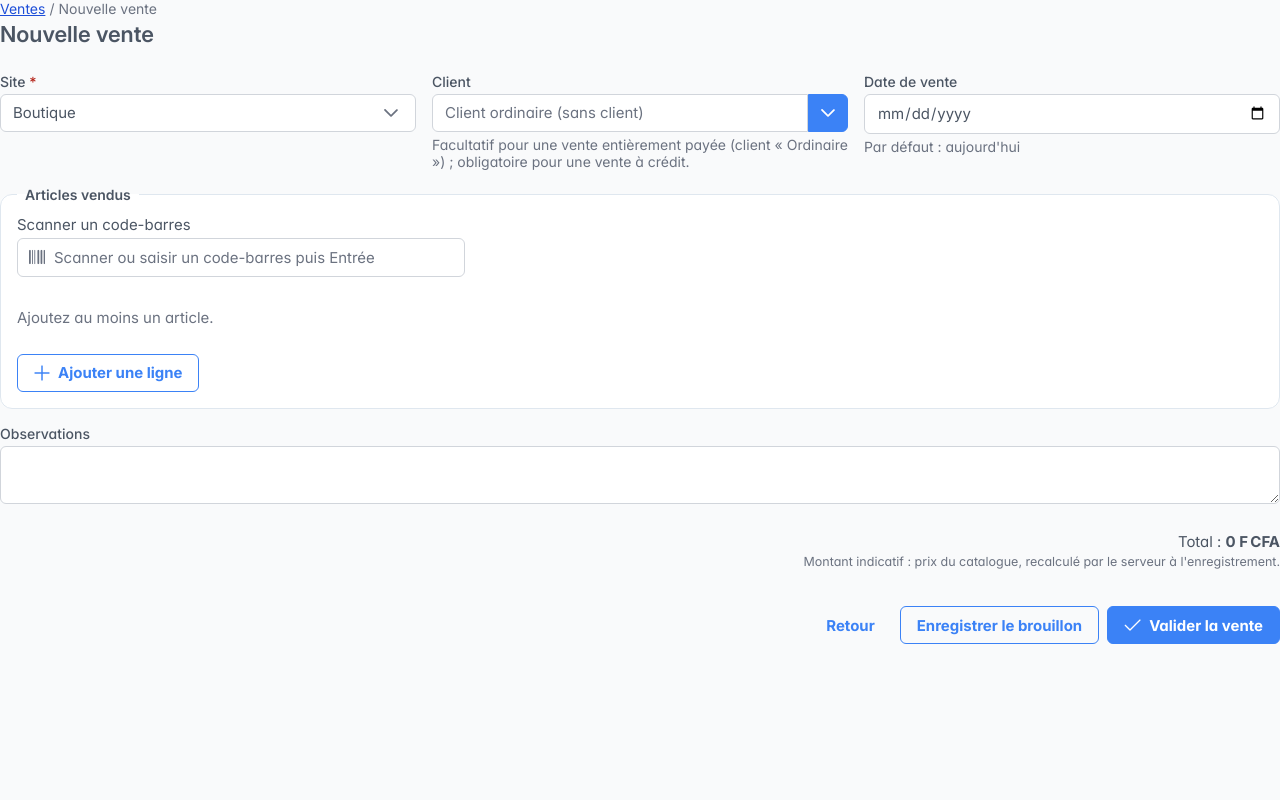
Test case: brouillons de vente (back-office) › nouvelle vente validée directement puis refusée : refus conservé dans le dialogue, même brouillon revalidé
This screenshot has width=1280, height=800.
Expected: the heading "Nouvelle vente" is shown, [0,21,157,48]
Click the button "Ajouter une ligne". click: coordinates (108, 373)
box: [17,354,199,392]
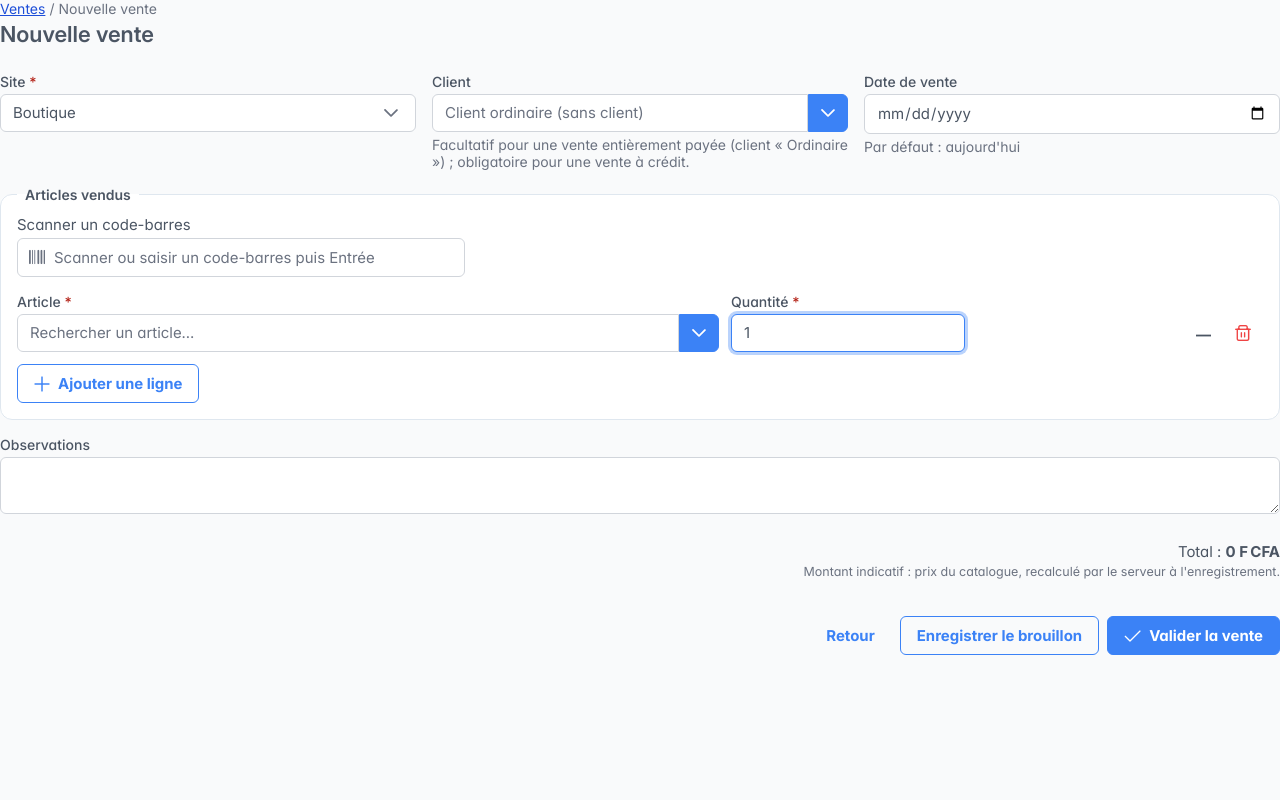
Type "vis" into the dropdown with id "line-0-article". click: coordinates (348, 333)
box: [17,314,679,352]
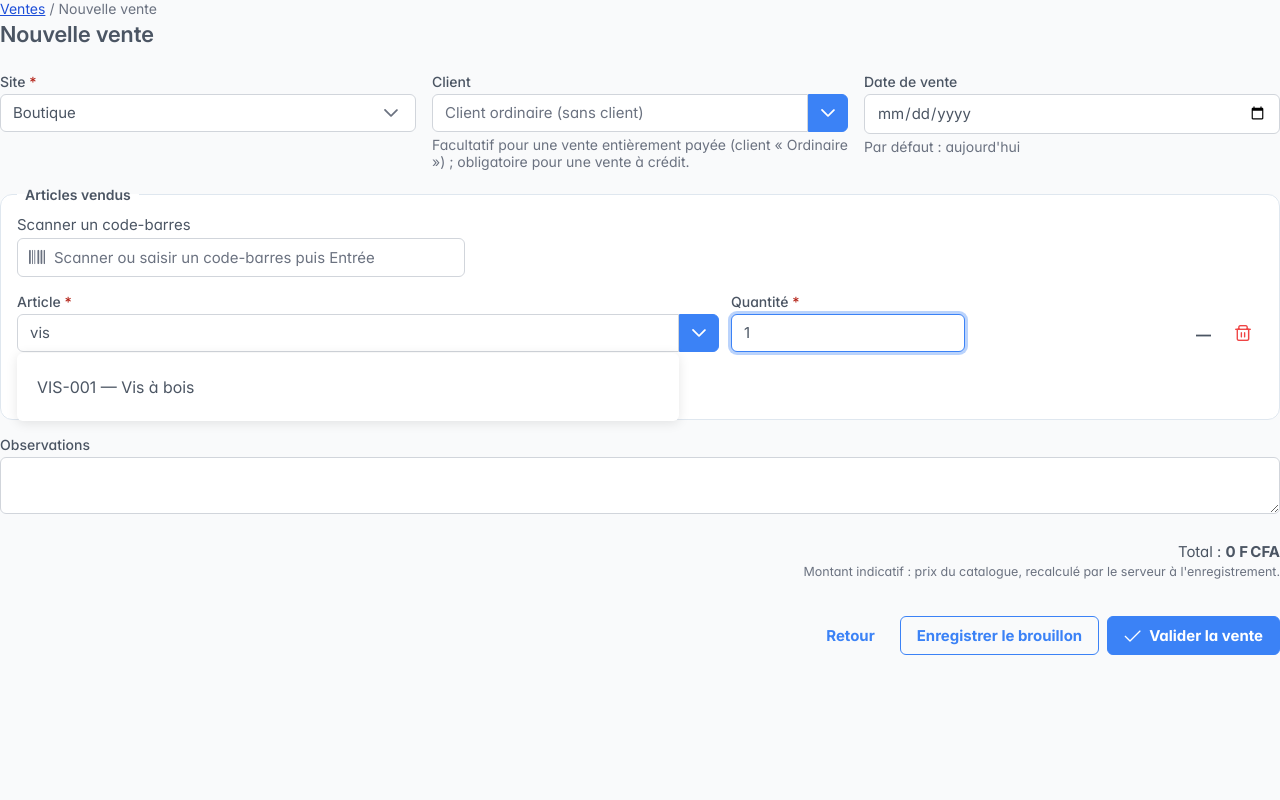
Expected: the dropdown with id "line-0-article" is expanded, [17,314,679,352]
Click the option "VIS-001 — Vis à bois". click: coordinates (116, 387)
box: [37,377,194,397]
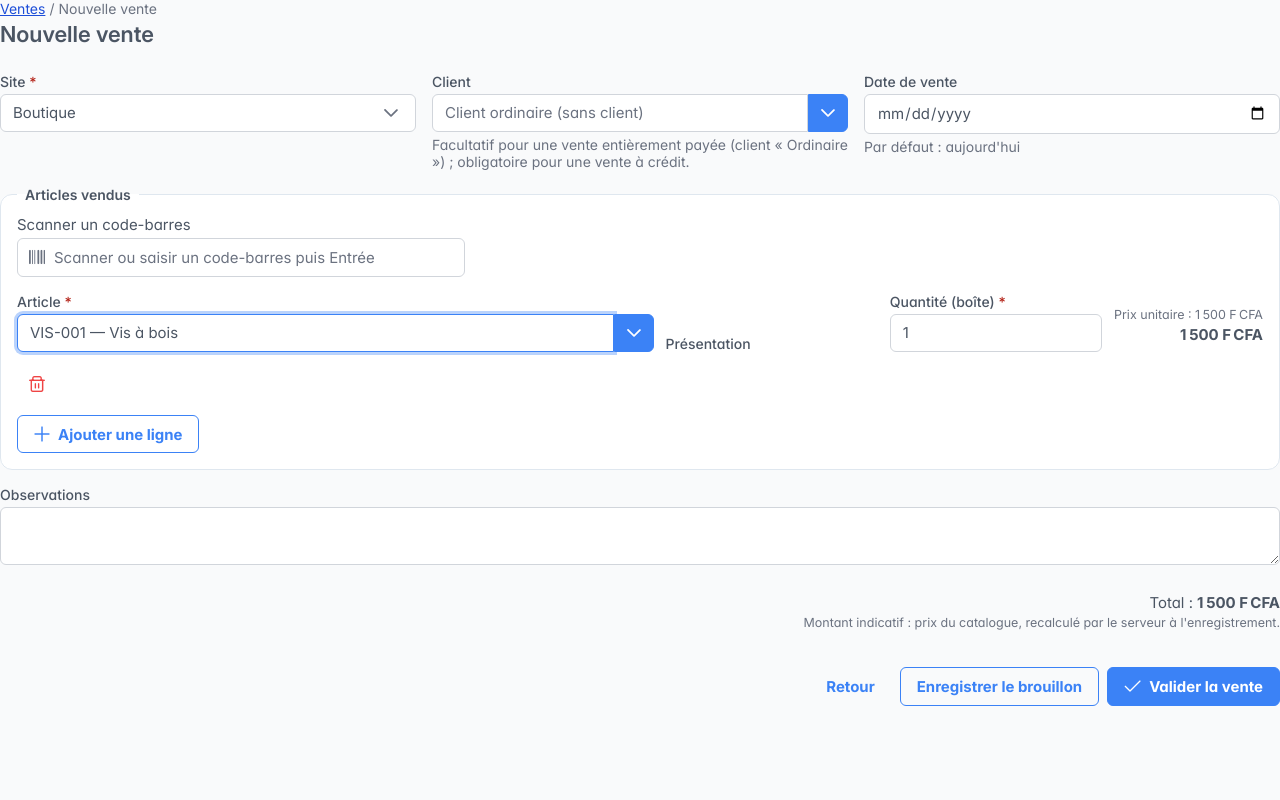
Replace the text in the field labelled "Quantité (boîte) *" with "2". click: coordinates (996, 333)
box: [890,314,1102,352]
Click the button "Valider la vente". click: coordinates (1194, 686)
box: [1107,667,1279,706]
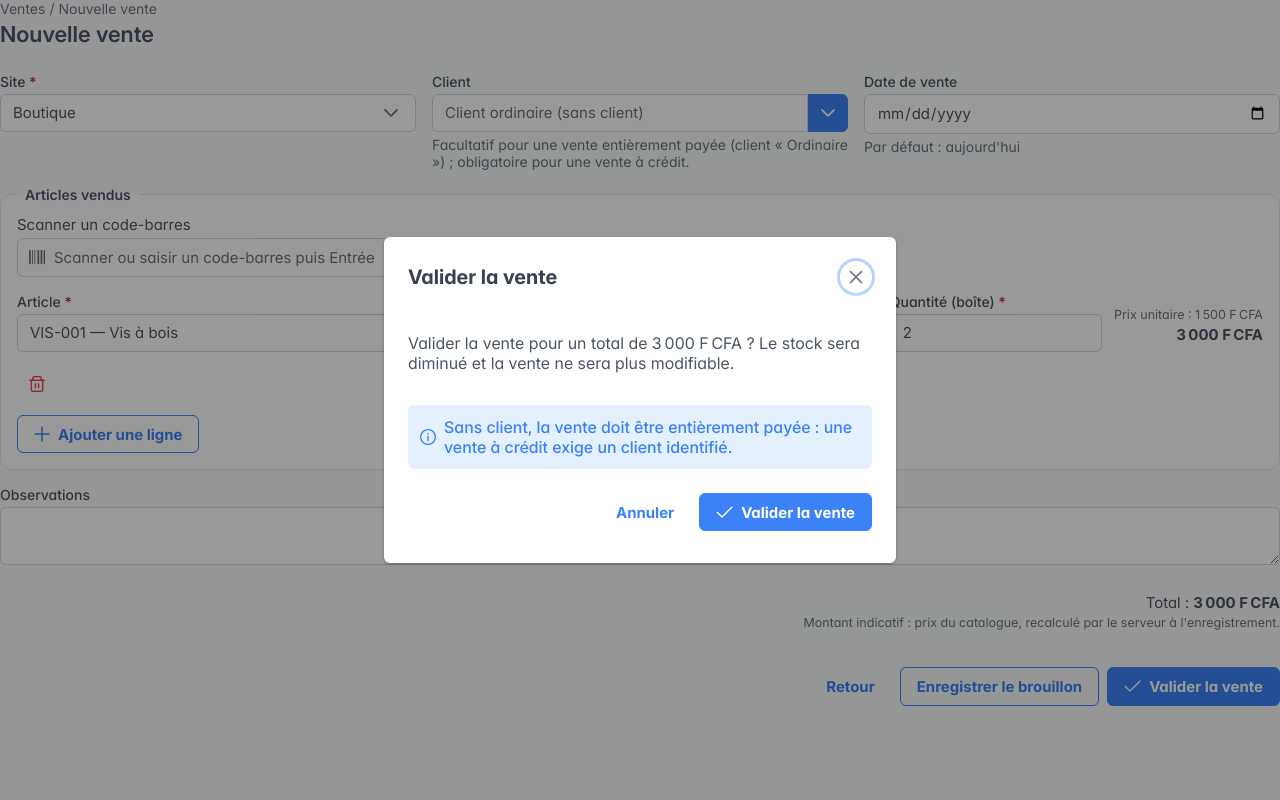
Click the button "Valider la vente". click: coordinates (786, 512)
box: [699,493,872,531]
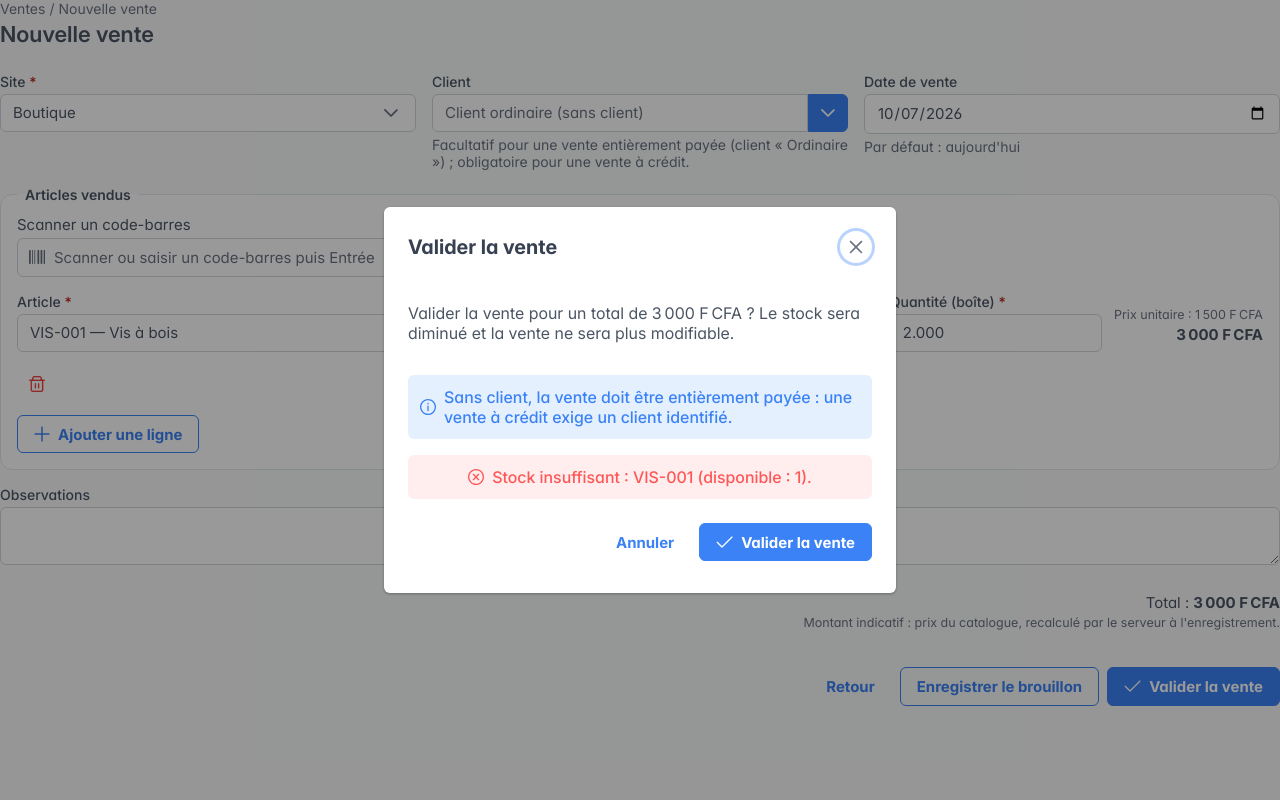
Expected: the text "Stock insuffisant : VIS-001 (disponible : 1)." is shown, [492,467,812,487]
Click the button "Valider la vente". click: coordinates (786, 542)
box: [699,523,872,561]
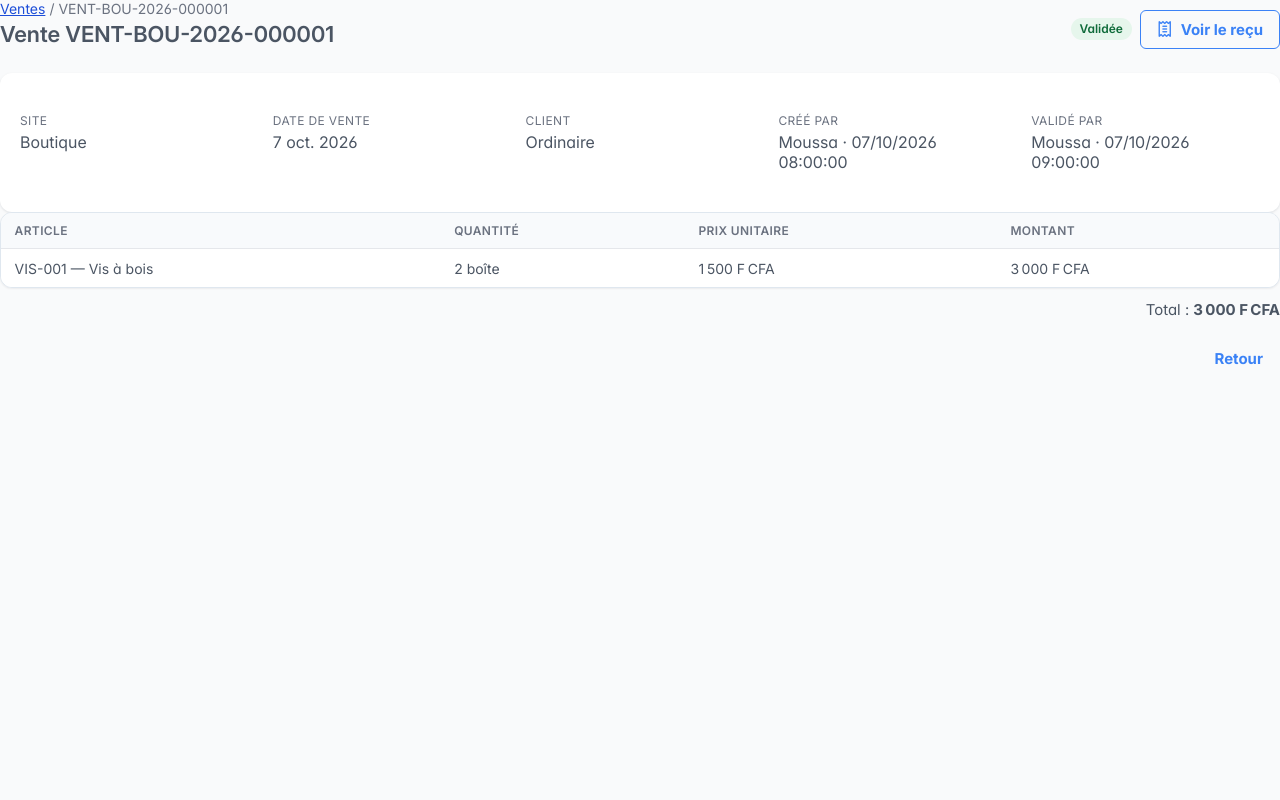
Expected: the heading "Vente VENT-BOU-2026-000001" is shown, [0,21,334,48]
